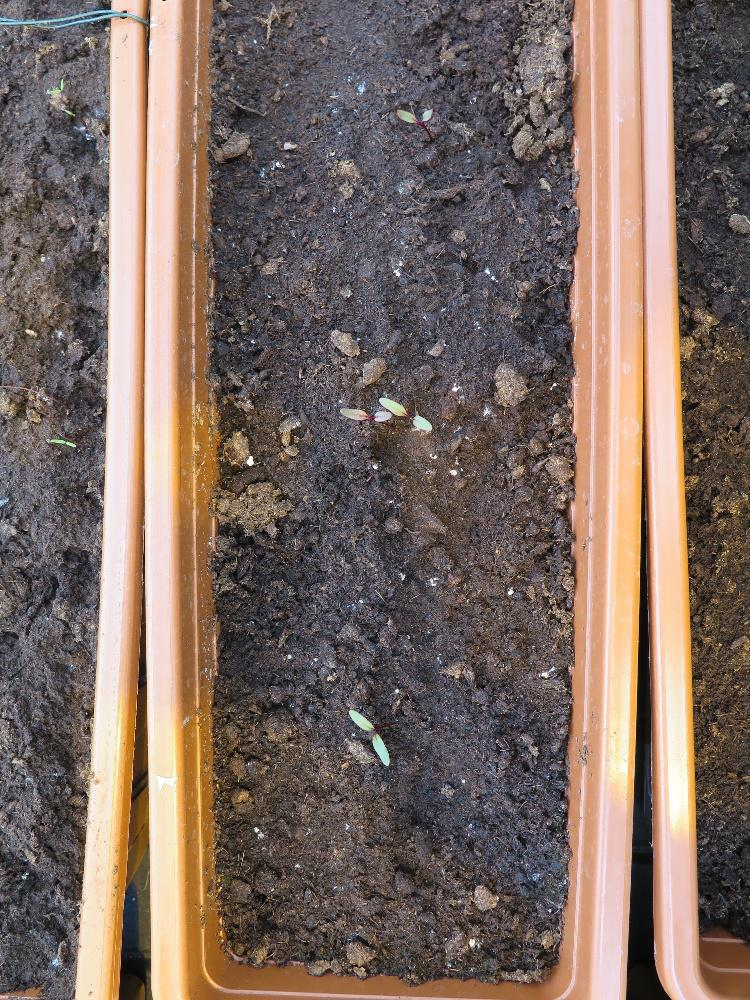crop: (346, 707, 389, 767), (394, 102, 433, 127)
weed: (46, 434, 76, 449)
